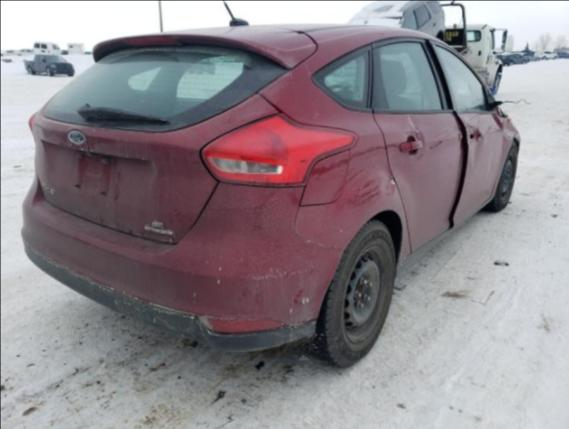Broken part: (420, 36, 509, 229)
Dent: (463, 119, 484, 184), (407, 114, 427, 161), (376, 170, 395, 197), (498, 134, 511, 170), (484, 147, 496, 183), (501, 117, 517, 139)
Missing part: (71, 154, 118, 196), (483, 85, 534, 109), (468, 128, 484, 140)
Scratch: (244, 269, 305, 280)
